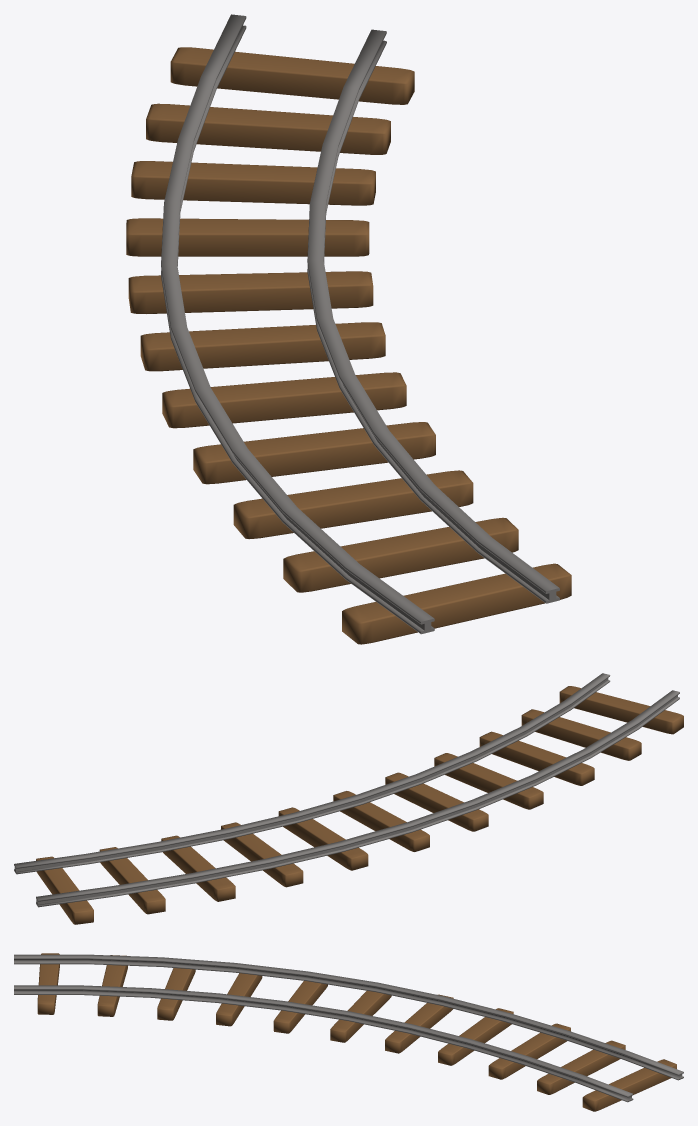
File: 45degreeTrack.FBX
3 renders of one model, top to bottom at view 1: azimuth 30°, elevation 25°; view 2: azimuth 150°, elevation 25°; view 3: azimuth 270°, elevation 25°, orthographic. The views are drawn at different scales.
Parts seen in each view (by area): view 1: rail45degreeturn.layer01; view 2: rail45degreeturn.layer01; view 3: rail45degreeturn.layer01.
Part boxes in pixels (<box>): rail45degreeturn.layer01: <box>126,14,571,644</box>; rail45degreeturn.layer01: <box>14,673,683,924</box>; rail45degreeturn.layer01: <box>14,953,683,1111</box>.
Size of the model in its own units: 6.34 by 0.3539 by 11.97.
